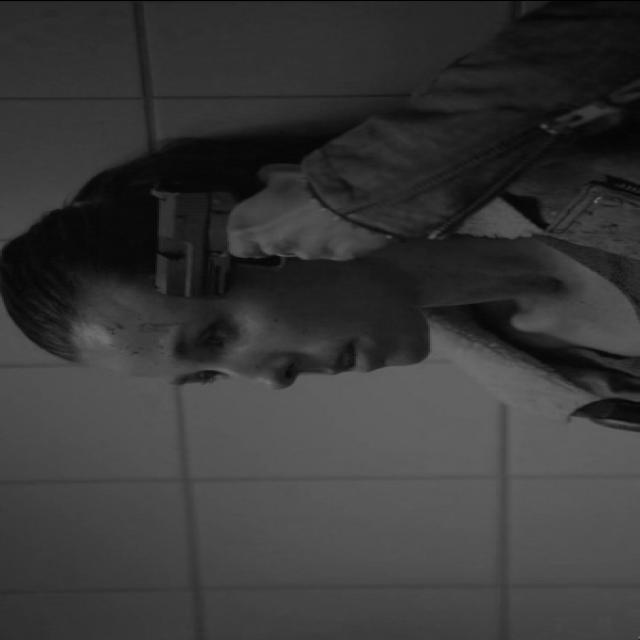weapons: (119, 171, 354, 305)
